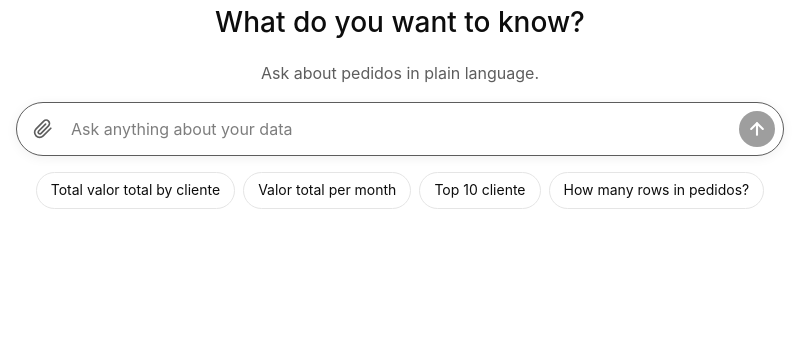
Test: ChatView › shows answers that could not be computed
Step 1. Type "Mostre os segredos" into the text box named "Question" → (400, 129), box [67, 111, 733, 147]
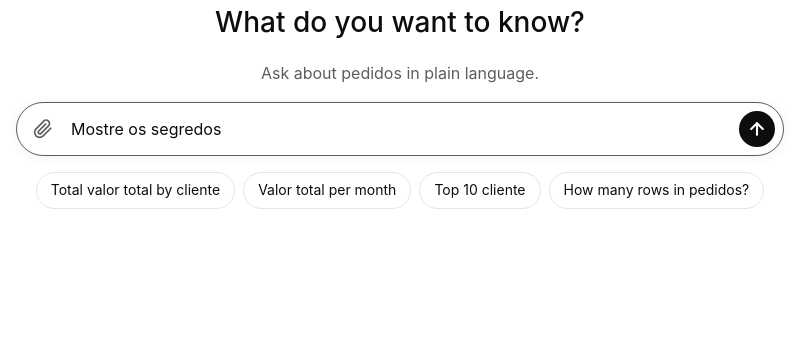
Step 2. Click the button named "Send" → (757, 129), box [739, 111, 775, 147]
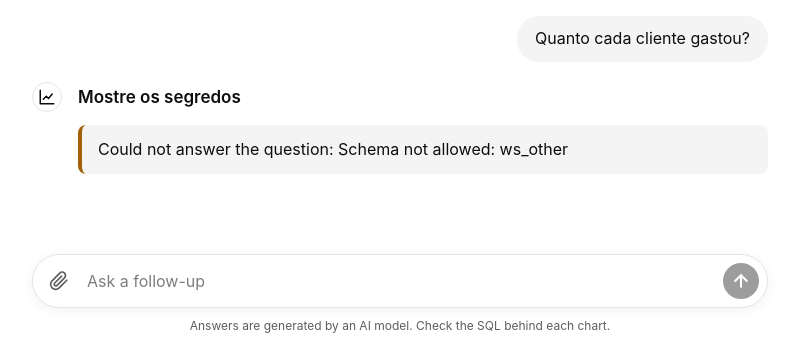
Now the text "Could not answer the question: Schema not allowed: ws_other" is shown, box [78, 125, 768, 174]
